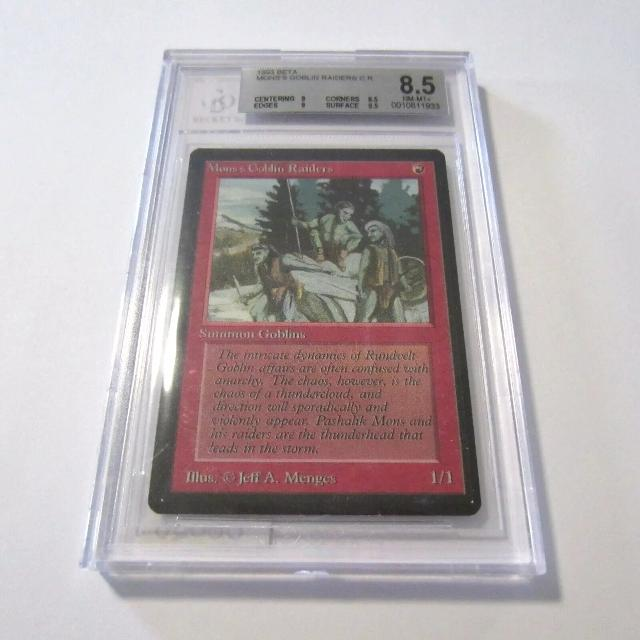bgs_label: (238, 66, 449, 117)
bgs_slab: (78, 48, 549, 577)
card: (146, 147, 483, 516)
